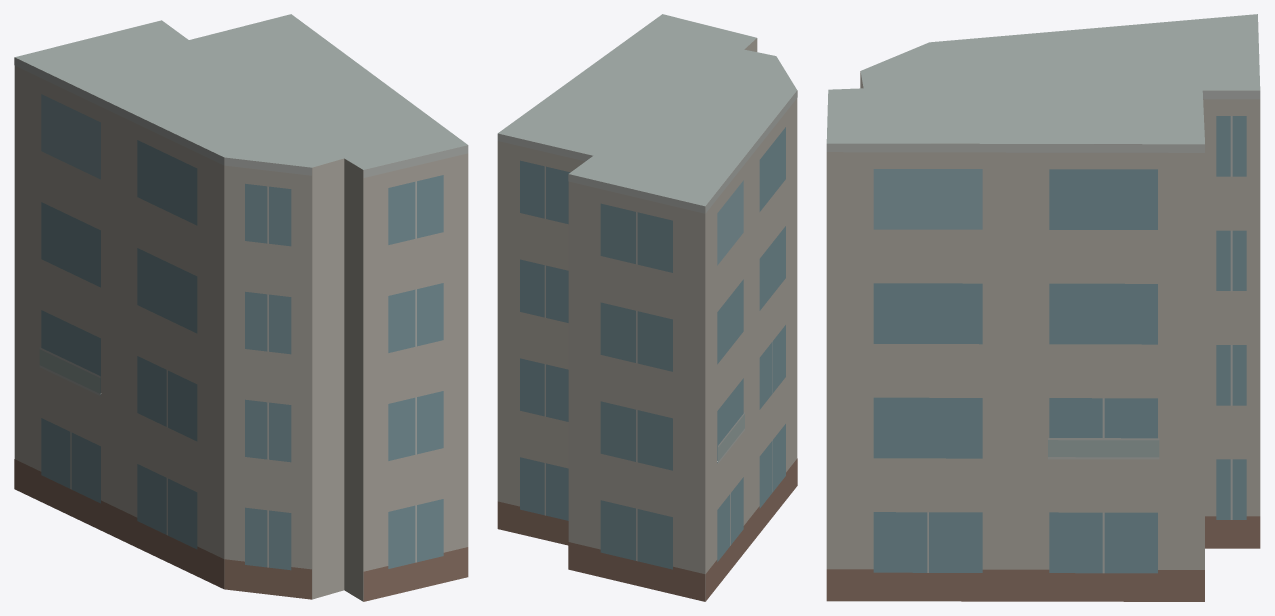
Rendered from survey-upis-32464760.glb.
The picture shows the model from 3 angles, left to right: view 1: azimuth 30°, elevation 25°; view 2: azimuth 150°, elevation 25°; view 3: azimuth 270°, elevation 25°; orthographic projection. The views are drawn at different scales.
Visible parts, largest first — view 1: survey-upis-32464760.tmp; view 2: survey-upis-32464760.tmp; view 3: survey-upis-32464760.tmp.
Boxes of the visible parts, <box> form: survey-upis-32464760.tmp: <box>14,14,468,601</box>; survey-upis-32464760.tmp: <box>497,14,797,601</box>; survey-upis-32464760.tmp: <box>826,14,1260,601</box>.
Size of the model in its own units: 7.91 by 12.9 by 11.09.
